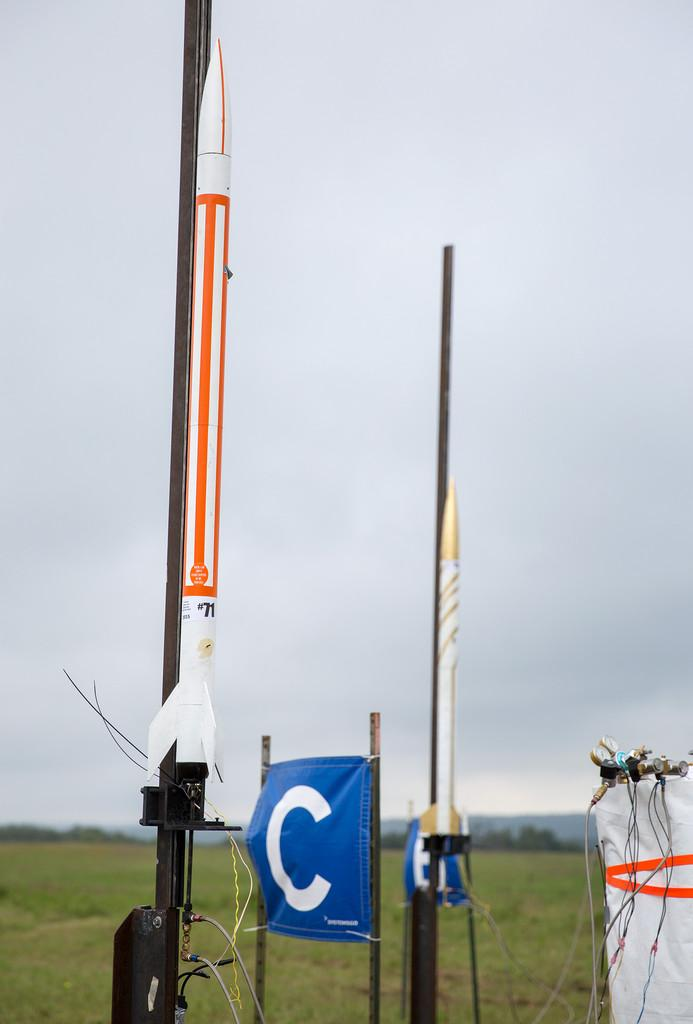Missile: (147, 35, 234, 783)
